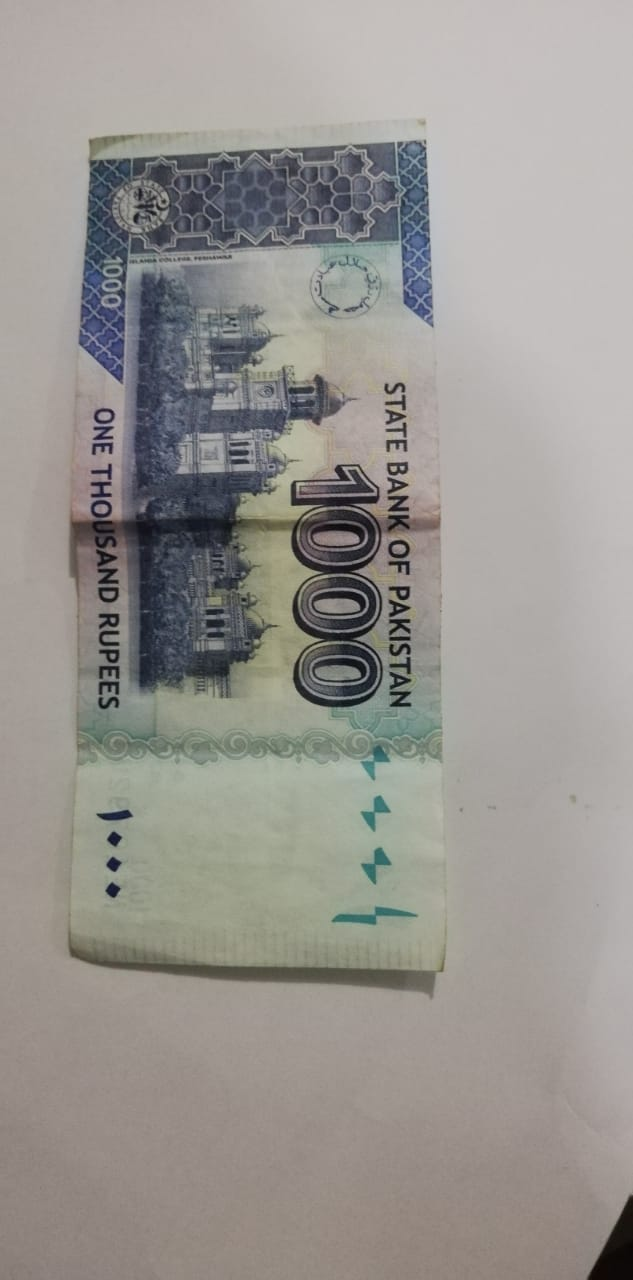1000 rupee: (61, 103, 469, 1043)
